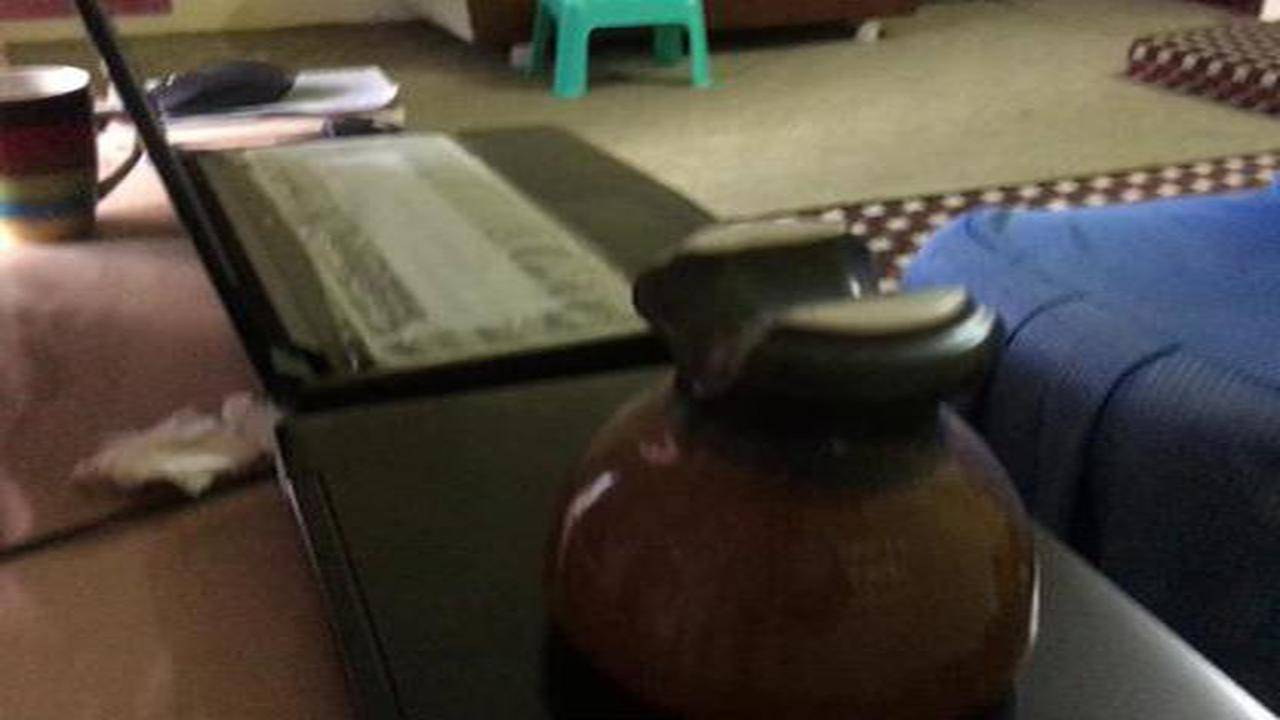insulator_pin: (530, 215, 1065, 720)
